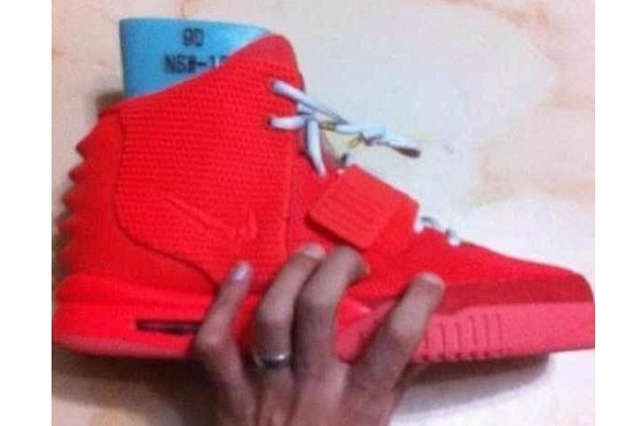Yeezy Red October: (53, 30, 598, 384)
